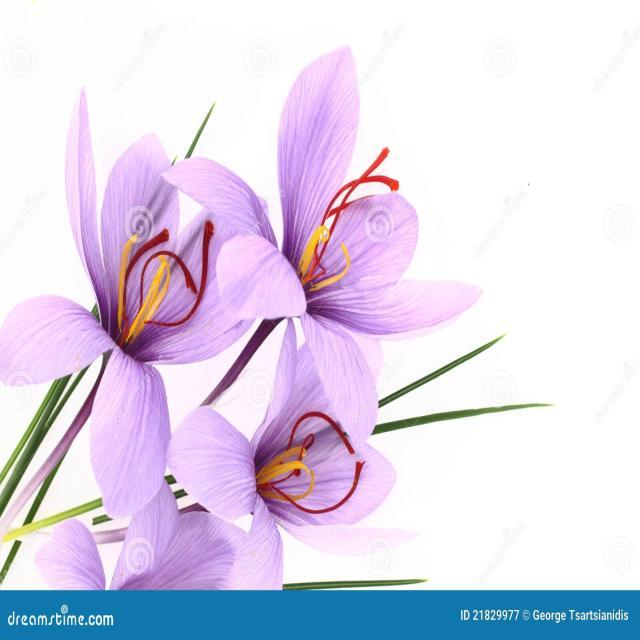Flower: (11, 85, 300, 509), (256, 41, 481, 352), (190, 380, 410, 581)
stigma: (259, 404, 370, 518), (324, 122, 406, 222), (179, 214, 221, 323)
